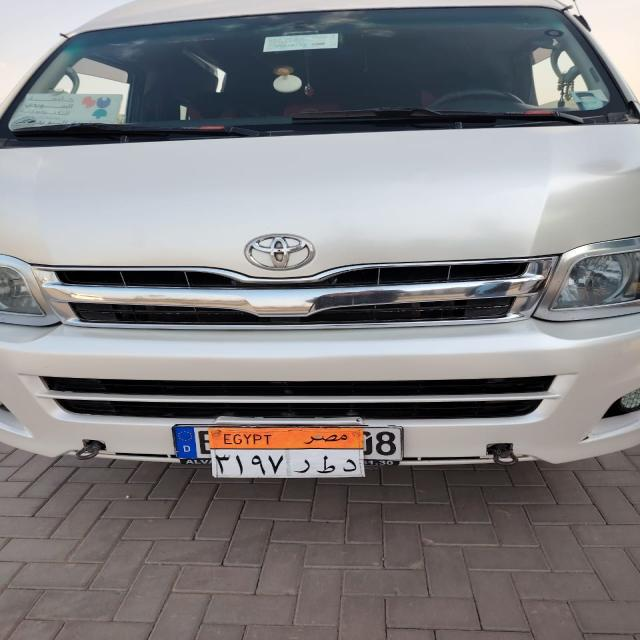car-plate: (210, 430, 361, 476)
